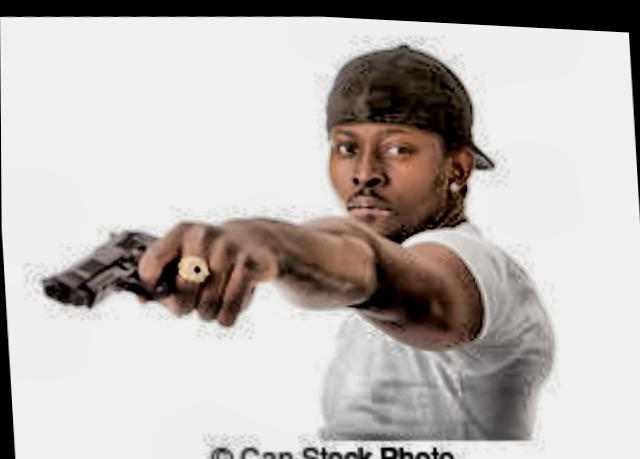pistol: (37, 217, 235, 318)
